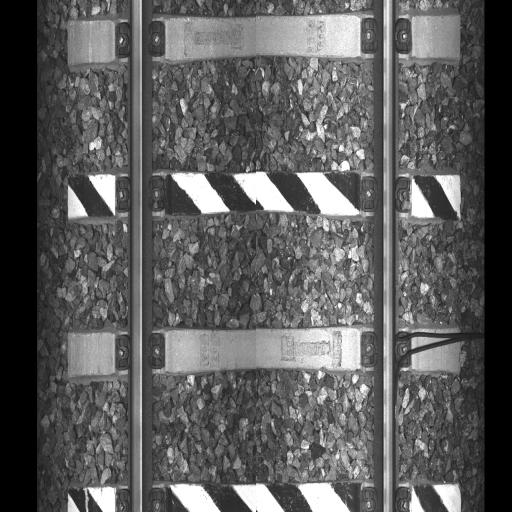sleeper: (66, 172, 461, 223), (67, 18, 460, 60), (67, 331, 461, 372), (67, 487, 462, 511)
